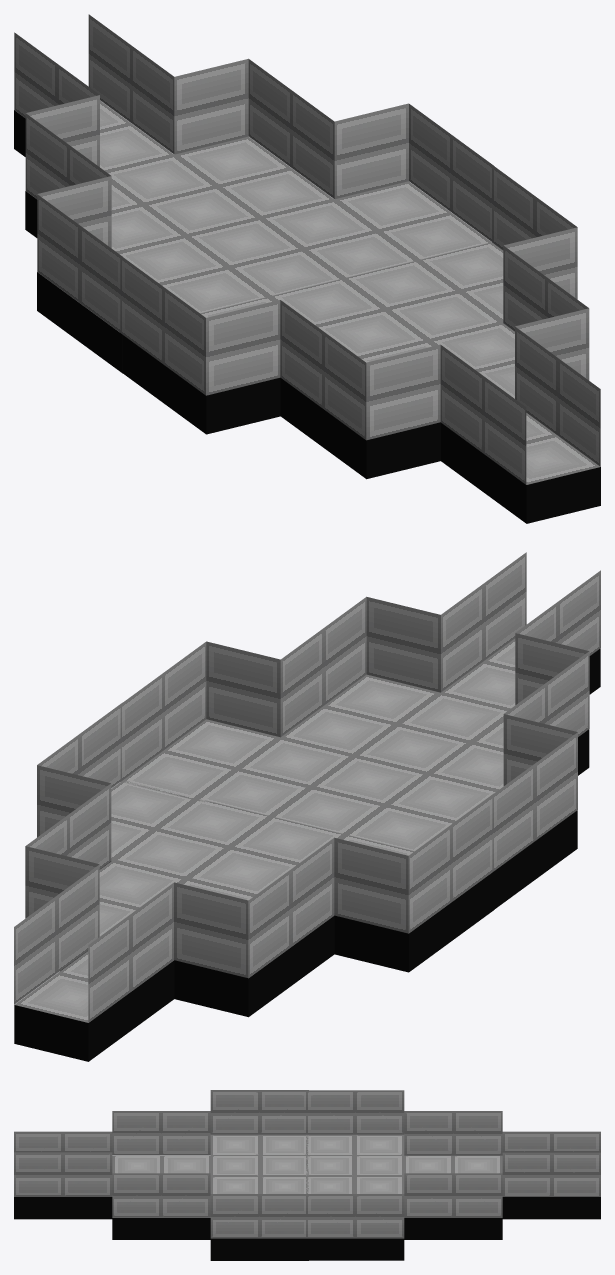
The model's file is VeryLongPath.gltf.
3 views of the same model, one above another, from view 1: azimuth 30°, elevation 25°; view 2: azimuth 150°, elevation 25°; view 3: azimuth 270°, elevation 25° (orthographic). The views are drawn at different scales.
Parts seen in each view (by area): view 1: VeryLongPath; view 2: VeryLongPath; view 3: VeryLongPath.
Part boxes in pixels (x1,y1,x2,y2): VeryLongPath: (14, 14, 600, 523); VeryLongPath: (14, 552, 600, 1061); VeryLongPath: (14, 1090, 600, 1260).
Size of the model in its own units: 10.01 by 3 by 23.88.
Materials: 2 (1 with a texture image).
